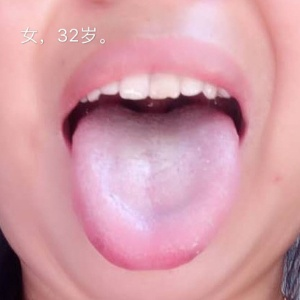st: (68, 130, 241, 272)
